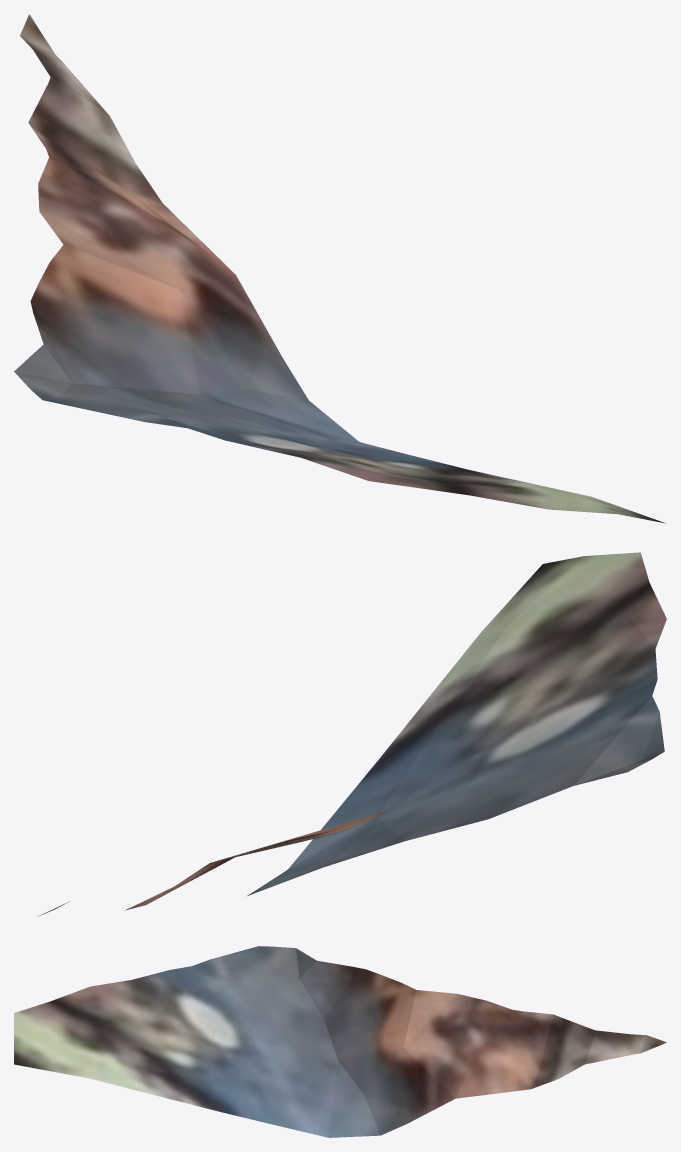
The picture shows the model from 3 angles, top to bottom: view 1: azimuth 30°, elevation 25°; view 2: azimuth 150°, elevation 25°; view 3: azimuth 270°, elevation 25°; orthographic projection. The views are drawn at different scales.
Bounding box in the file's own units: 0.4213 × 0.1942 × 1.21.
Materials: 1 (1 with a texture image).
